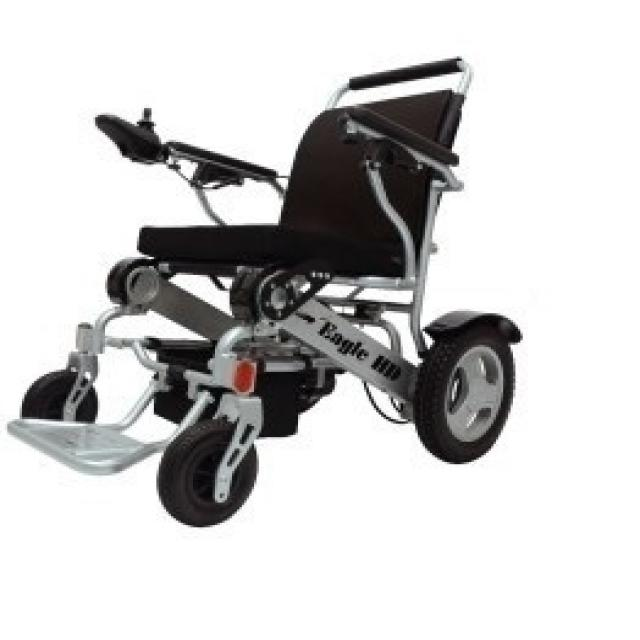wheelchair: (0, 49, 538, 554)
